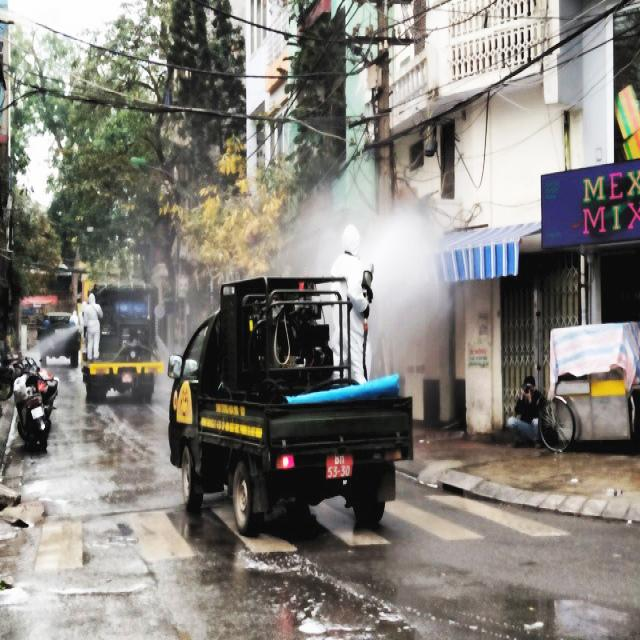license_plate: (327, 453, 357, 479)
